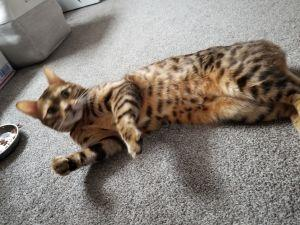bengal: (11, 62, 96, 139)
